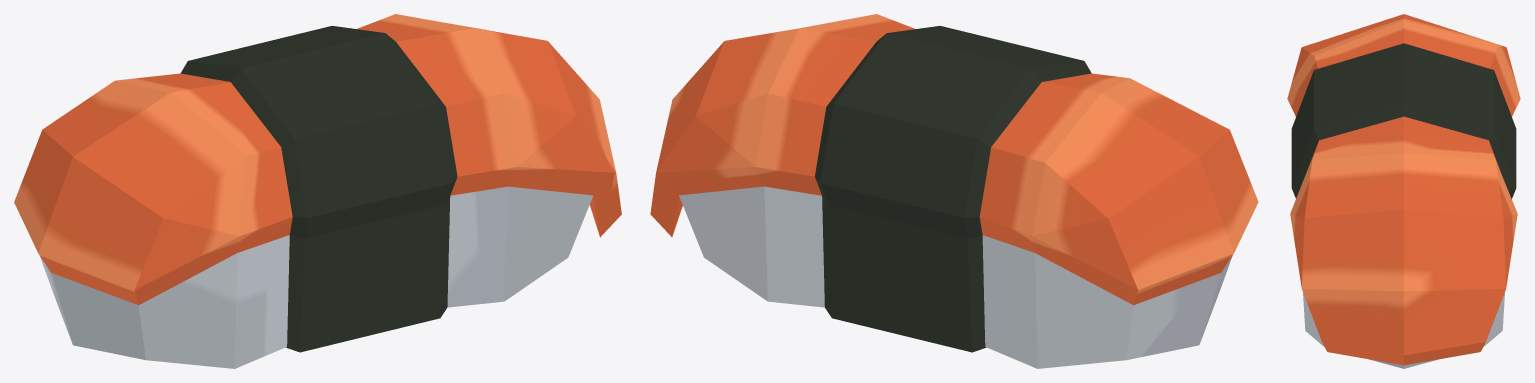
The model's file is samurai_SM_Prop_Food_Sushi_01.gltf.
3 renders of one model, left to right at view 1: azimuth 30°, elevation 25°; view 2: azimuth 150°, elevation 25°; view 3: azimuth 270°, elevation 25°, orthographic. The views are drawn at different scales.
Visible parts, largest first — view 1: SM_Prop_Food_Sushi_01; view 2: SM_Prop_Food_Sushi_01; view 3: SM_Prop_Food_Sushi_01.
Boxes of the visible parts, x1,y1,x2,y2 form: SM_Prop_Food_Sushi_01: (14, 14, 621, 368); SM_Prop_Food_Sushi_01: (650, 14, 1258, 368); SM_Prop_Food_Sushi_01: (1287, 14, 1520, 368).
Bounding box in the file's own units: 0.1595 × 0.0707 × 0.0669.
Materials: 1 (1 with a texture image).
